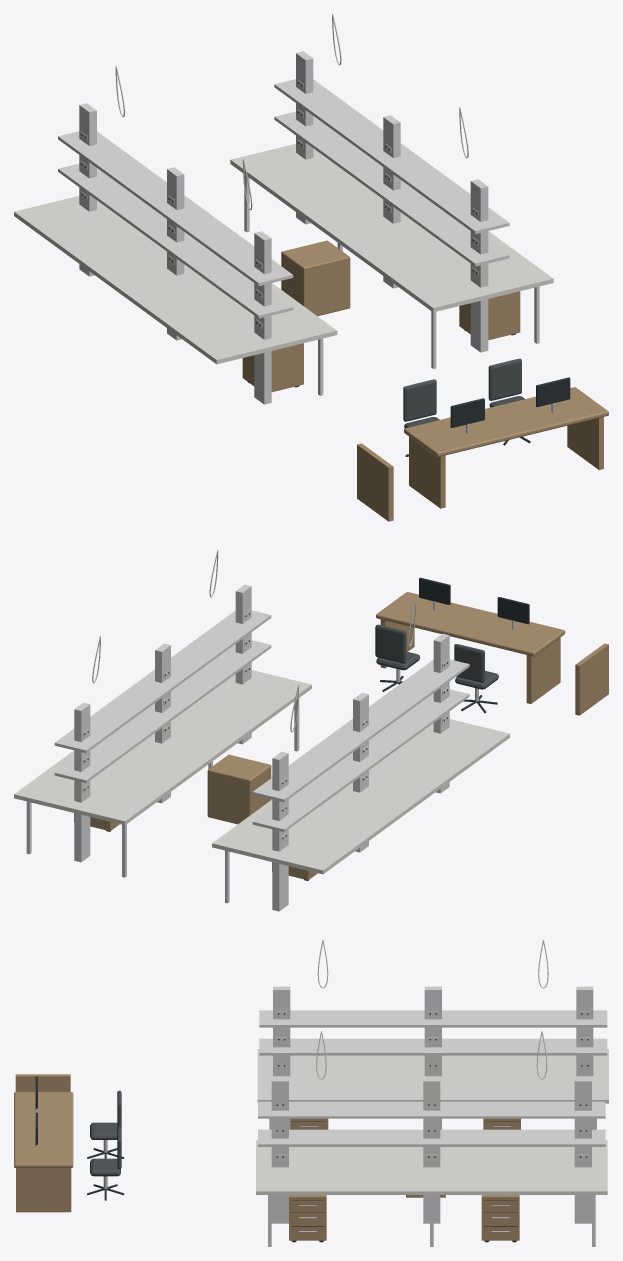
The model's file is SM_L6_Furniture_Solid_e80479ebcd_0.fbx.
3 views of the same model, one above another, from view 1: azimuth 30°, elevation 25°; view 2: azimuth 150°, elevation 25°; view 3: azimuth 270°, elevation 25° (orthographic). The views are drawn at different scales.
Parts seen in each view (by area): view 1: SM_L6_Furniture_Solid_e80479ebcd_0; view 2: SM_L6_Furniture_Solid_e80479ebcd_0; view 3: SM_L6_Furniture_Solid_e80479ebcd_0.
Part boxes in pixels (x1,y1,x2,y2): SM_L6_Furniture_Solid_e80479ebcd_0: (14, 14, 608, 521); SM_L6_Furniture_Solid_e80479ebcd_0: (14, 550, 608, 911); SM_L6_Furniture_Solid_e80479ebcd_0: (14, 940, 608, 1246).
Bounding box in the file's own units: 4.88 × 8.64 × 3.12.
